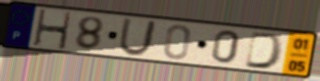0: (210, 29, 242, 66), (162, 23, 193, 61)
8: (74, 16, 106, 51)
D: (242, 30, 286, 71)
H: (32, 8, 73, 51)
U: (117, 17, 159, 58)
